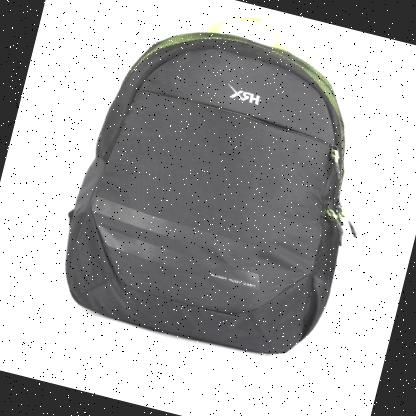bag: (42, 0, 405, 379)
